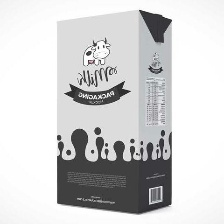carton: (49, 6, 175, 217)
